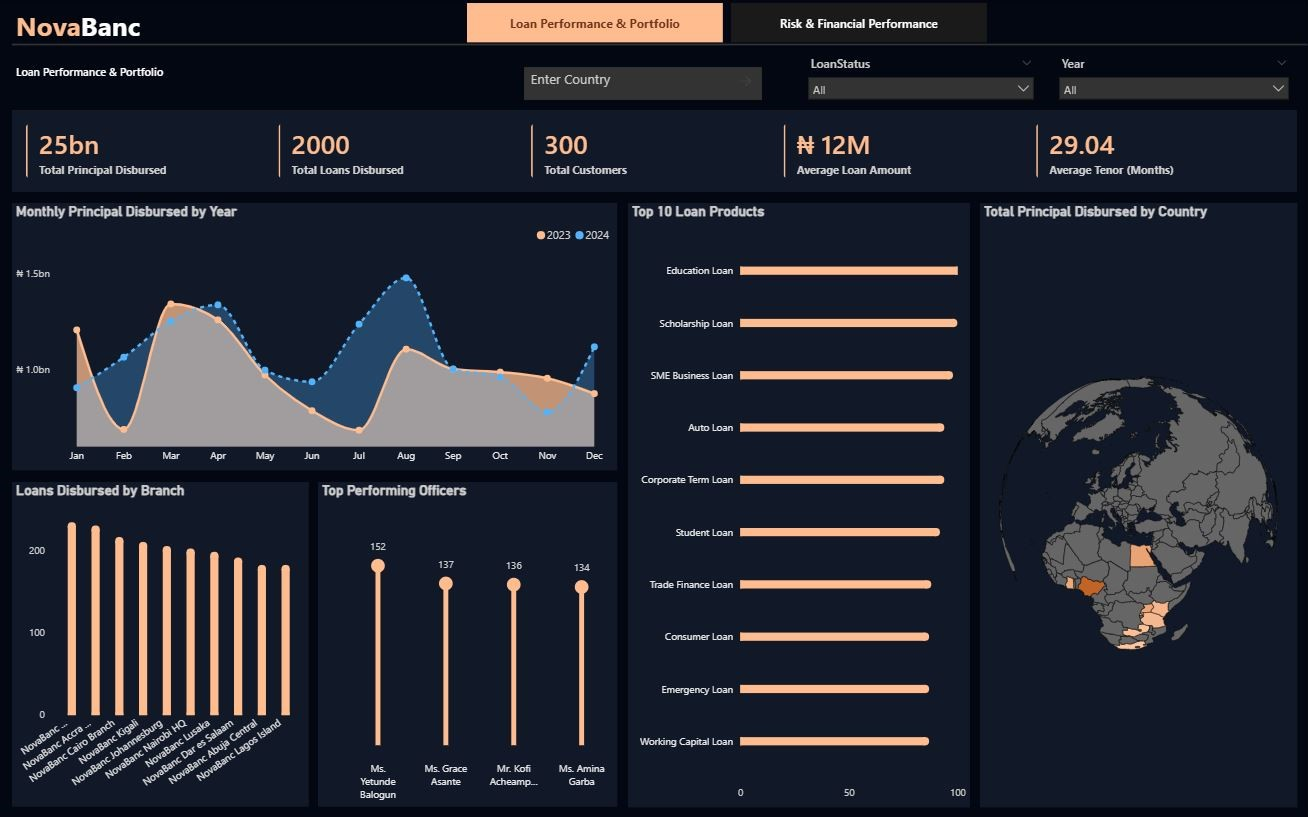

The dashboard page shown, as its layout file describes it:
{"tool":"powerbi","page":{"name":"Loan Performance & Portfolio","canvas":[1600,1000],"ordinal":0},"visuals":[{"type":"cardVisual","fields":{"Data":["CalculatedMeasures.Total Principal Disbursed","CalculatedMeasures.Total Loans Disbursed","CalculatedMeasures.Total Customers","CalculatedMeasures.Average Loan Amount","CalculatedMeasures.Average Tenor (Months)"]},"box":[17.1,134.2,1567,100.1],"z":1000},{"type":"lineChart","title":"Monthly Principal Disbursed by Year","fields":{"Y":["CalculatedMeasures.Total Principal Disbursed"],"Category":["calendar_dim.Month Name"],"Series":["calendar_dim.Year"]},"box":[16.6,247.3,738.2,326.4],"z":2000},{"type":"clusteredColumnChart","title":"Loans Disbursed by Branch","fields":{"Y":["CalculatedMeasures.Total Loans Disbursed"],"Category":["branch_dim.BranchName"]},"box":[16.6,588,362.1,396.5],"z":3000},{"type":"clusteredBarChart","title":"Top 10 Loan Products","fields":{"Category":["fact_table.LoanProduct"],"Y":["CalculatedMeasures.Total Loans Disbursed"]},"box":[768.8,247.3,416.9,736.9],"z":4000},{"type":"lineChart","title":"Top Performing Officers","fields":{"Y":["CalculatedMeasures.Total Loans Disbursed"],"Category":["officer_dim.OfficerName"]},"box":[390.2,587.8,364.6,396.3],"z":5000},{"type":"shapeMap","fields":{"Category":["branch_dim.Country"],"Value":["CalculatedMeasures.Total Principal Disbursed"]},"box":[1197.3,247.7,386.9,737.1],"z":6000},{"type":"textbox","box":[16.6,3.8,473,53.5],"z":7000},{"type":"textbox","box":[17.1,73.2,472,40.2],"z":8000},{"type":"shape","box":[17.1,31.7,1580.5,45.2],"z":9000},{"type":"slicer","fields":{"Values":["calendar_dim.Year"]},"box":[1284.1,62.2,300,67.1],"z":10000},{"type":"slicer","fields":{"Values":["fact_table.LoanStatus"]},"box":[978,62.2,295.1,67.1],"z":11000},{"type":"textSlicer","fields":{"Values":["branch_dim.Country"]},"box":[636.6,76.8,300,50],"z":12000},{"type":"pageNavigator","box":[572.4,3.7,634.6,48.8],"z":13501}]}

Visuals, with their boxes in screenshot pixels (x1, y1, x2, y2), scaled from the page's 1600x1000 canvas onto the 1308x817 screenshot:
cardVisual - CalculatedMeasures.Total Principal Disbursed x CalculatedMeasures.Total Loans Disbursed: region(14, 110, 1295, 191)
"Monthly Principal Disbursed by Year" lineChart: region(14, 202, 617, 469)
"Loans Disbursed by Branch" clusteredColumnChart: region(14, 480, 310, 804)
"Top 10 Loan Products" clusteredBarChart: region(628, 202, 969, 804)
"Top Performing Officers" lineChart: region(319, 480, 617, 804)
shapeMap - branch_dim.Country x CalculatedMeasures.Total Principal Disbursed: region(979, 202, 1295, 805)
textbox: region(14, 3, 400, 47)
textbox: region(14, 60, 400, 93)
shape: region(14, 26, 1306, 63)
slicer - calendar_dim.Year: region(1050, 51, 1295, 106)
slicer - fact_table.LoanStatus: region(800, 51, 1041, 106)
textSlicer - branch_dim.Country: region(520, 63, 766, 104)
pageNavigator: region(468, 3, 987, 43)
